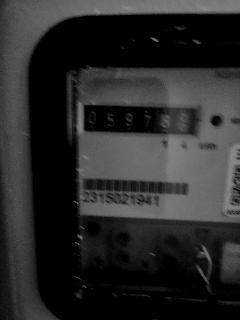1: (90, 112, 97, 125)
6: (106, 114, 115, 127)
8: (144, 114, 153, 128)
9: (162, 116, 170, 129), (181, 110, 189, 123)
:: (125, 114, 134, 127)
